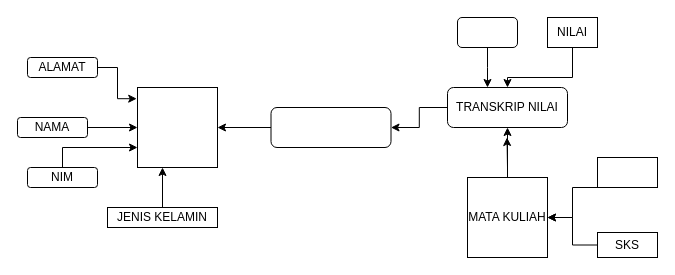
This 675x275 diagram has some shape labels left out. Each missing label, with the box of its shape:
KODE MK: (456, 16, 518, 48)
MAHASISWA: (136, 86, 218, 168)
MEMERLUKAN: (270, 106, 391, 148)
NAMA MK: (596, 156, 658, 188)
